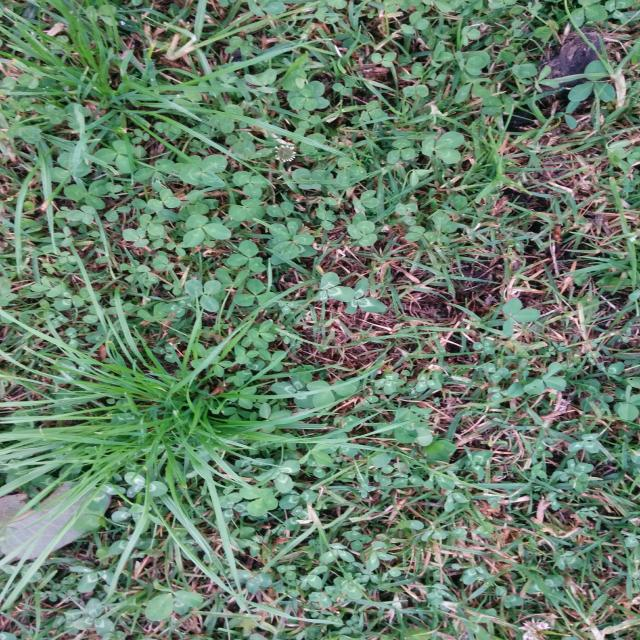Four Leaf Clover: (239, 488, 278, 516)
